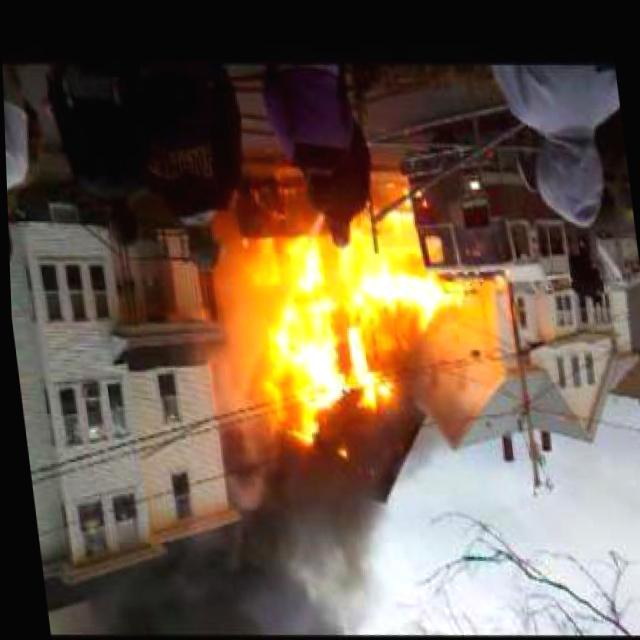Fire: (225, 191, 464, 462)
Smoke: (107, 427, 405, 640)
